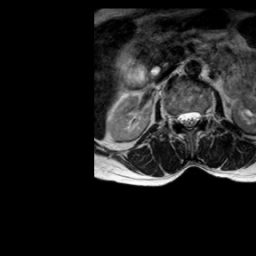CCS_normal: (184, 105, 191, 134)
LFS_normal: (199, 103, 206, 126)
LLS_normal: (191, 104, 199, 130)
RFS_normal: (171, 105, 177, 129)
RLS_normal: (177, 105, 184, 131)
